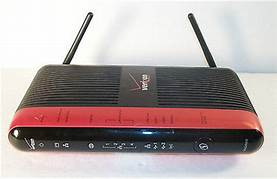Verizon Router: (8, 8, 270, 162)
